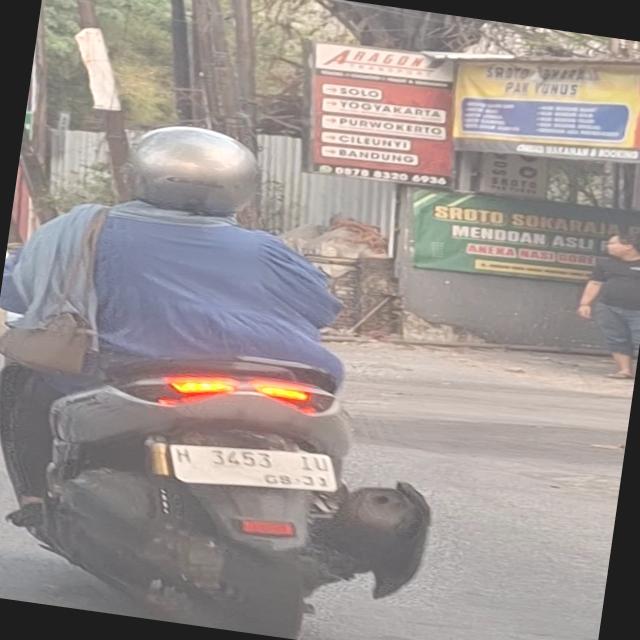WithHelmet: (0, 103, 380, 571)
